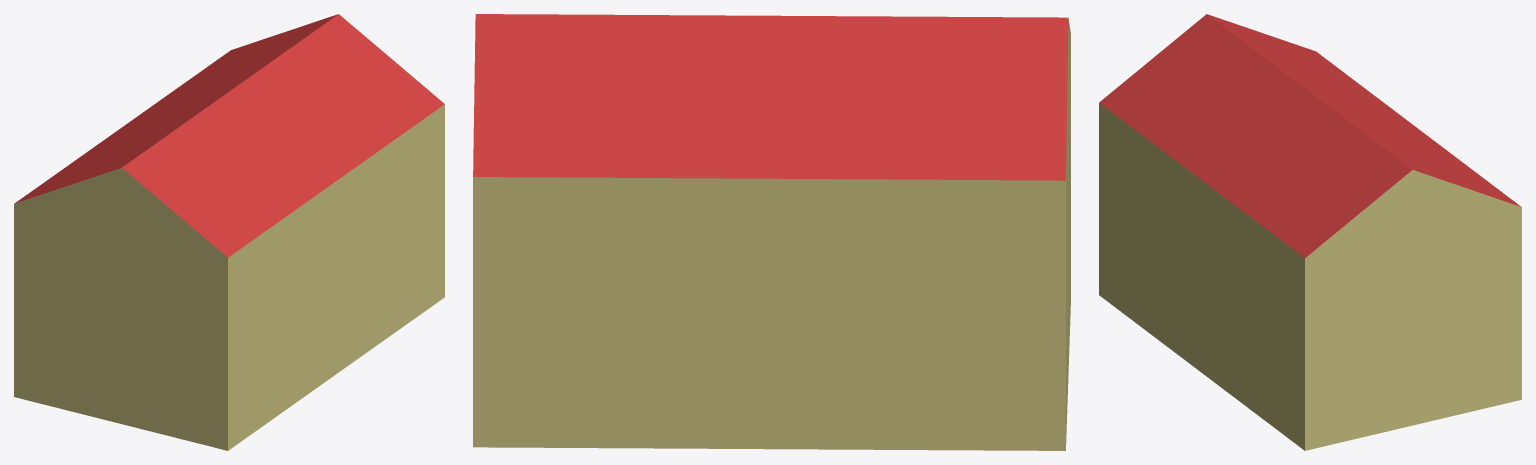
3 views of the same model, side by side, from view 1: azimuth 30°, elevation 25°; view 2: azimuth 150°, elevation 25°; view 3: azimuth 270°, elevation 25° (orthographic). The views are drawn at different scales.
Bounding box in the file's own units: 14 × 12.08 × 8.06.
